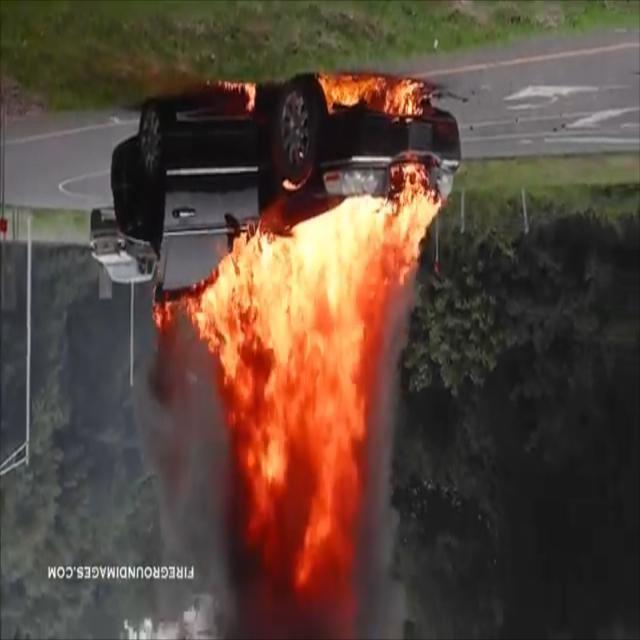fire: (151, 170, 443, 631), (230, 76, 444, 144)
